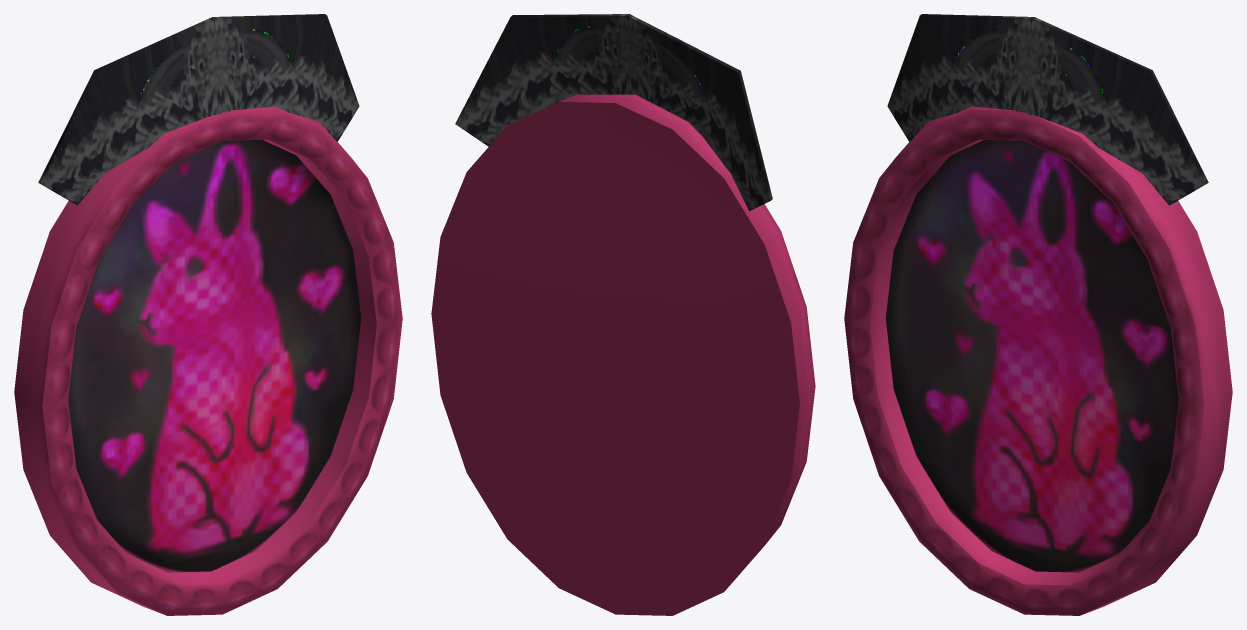
Rendered from LingerieArt_HD.fbx.
3 views of the same model, side by side, from view 1: azimuth 30°, elevation 25°; view 2: azimuth 150°, elevation 25°; view 3: azimuth 330°, elevation 25° (orthographic).
Visible parts, largest first — view 1: LingerieArt; view 2: LingerieArt; view 3: LingerieArt.
Part boxes in pixels (box(x1,y1,x2,y2)): LingerieArt: box(14, 14, 402, 615); LingerieArt: box(431, 14, 815, 615); LingerieArt: box(844, 14, 1232, 615).
Bounding box in the file's own units: 0.5178 × 0.7924 × 0.0683.
